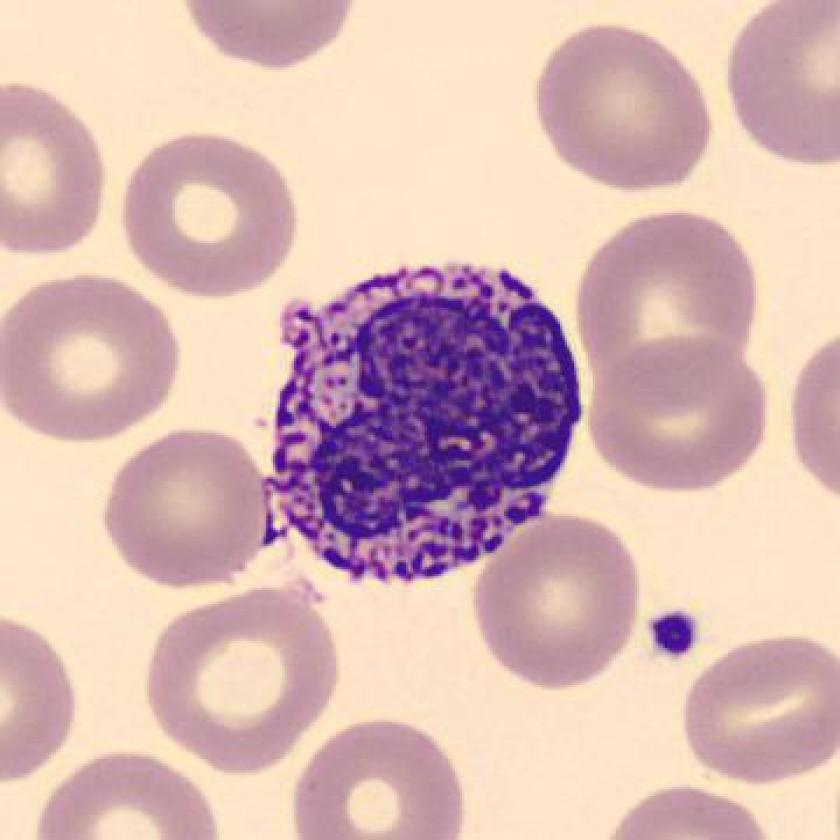basophil: (244, 253, 591, 598)
